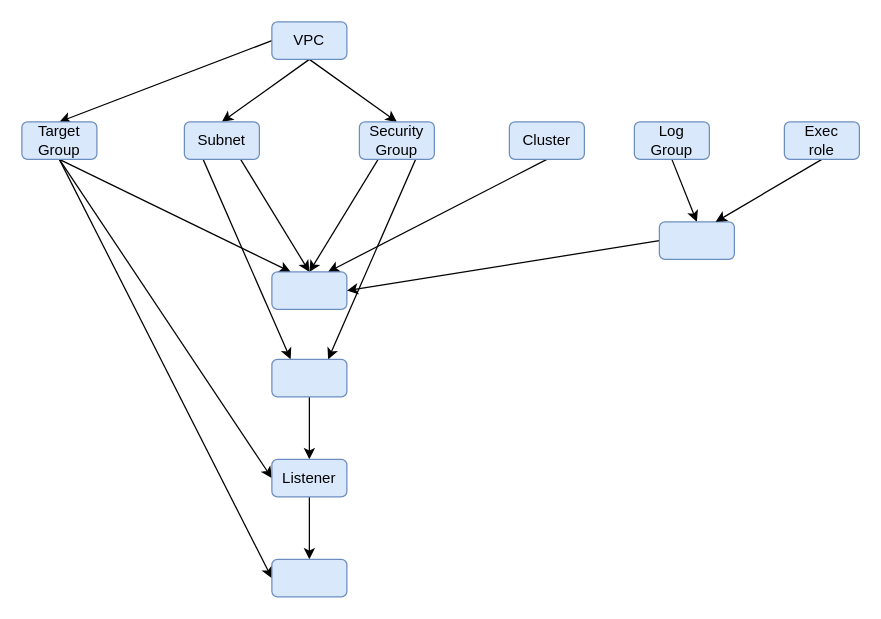
Some shapes in this 881 by 619 pixel diagram are drawn without their labels. Each missing label, with the centre of its shape:
"Listener rule" goes at point (309, 577).
"Load balancer" goes at point (309, 377).
"Service" goes at point (309, 290).
"Task definition" goes at point (696, 240).
